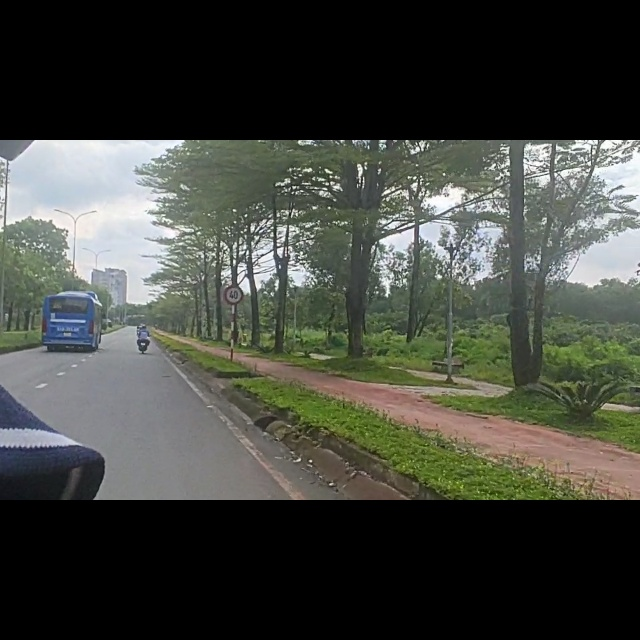Tốc độ tối đa cho phép 40km/h: (225, 286, 243, 304)
